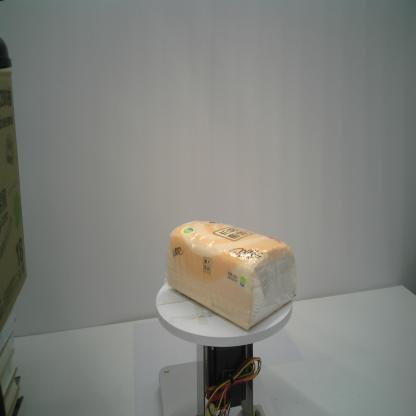Tissue: (164, 217, 299, 333)
